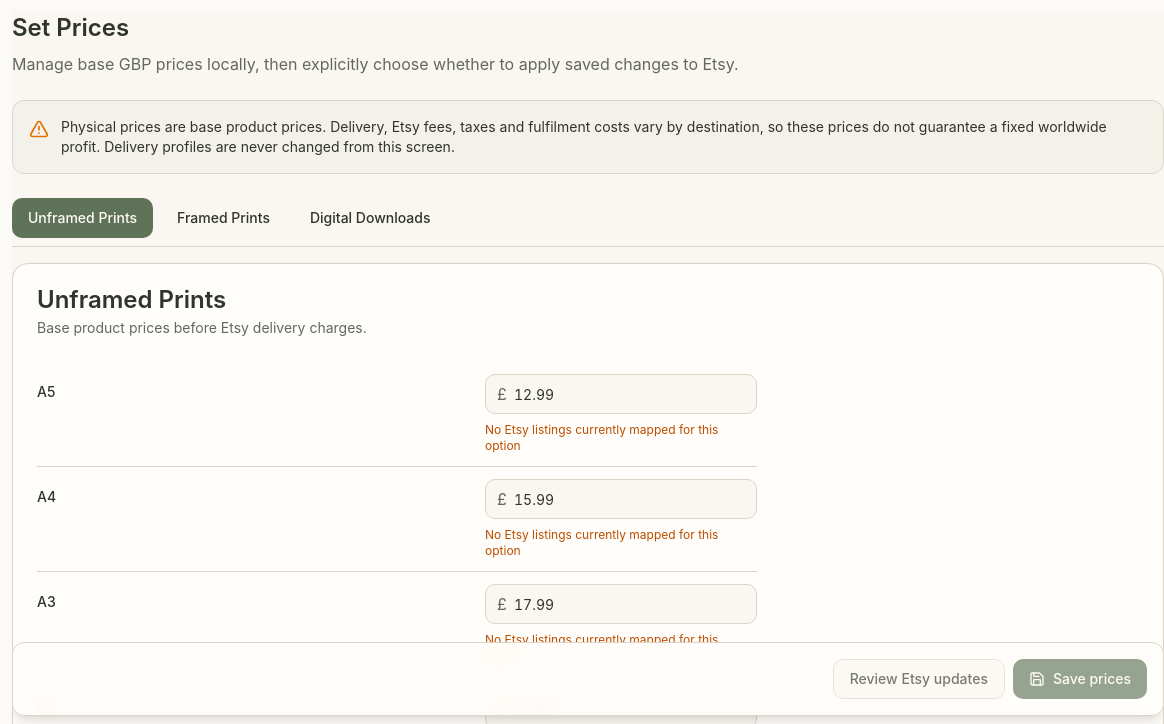
Set Prices screen › retains entered values and displays the server error when local saving fails
This screenshot has width=1164, height=724.
Click the tab "Digital Downloads".
click(370, 218)  # box x1=294 y1=198 x2=446 y2=238
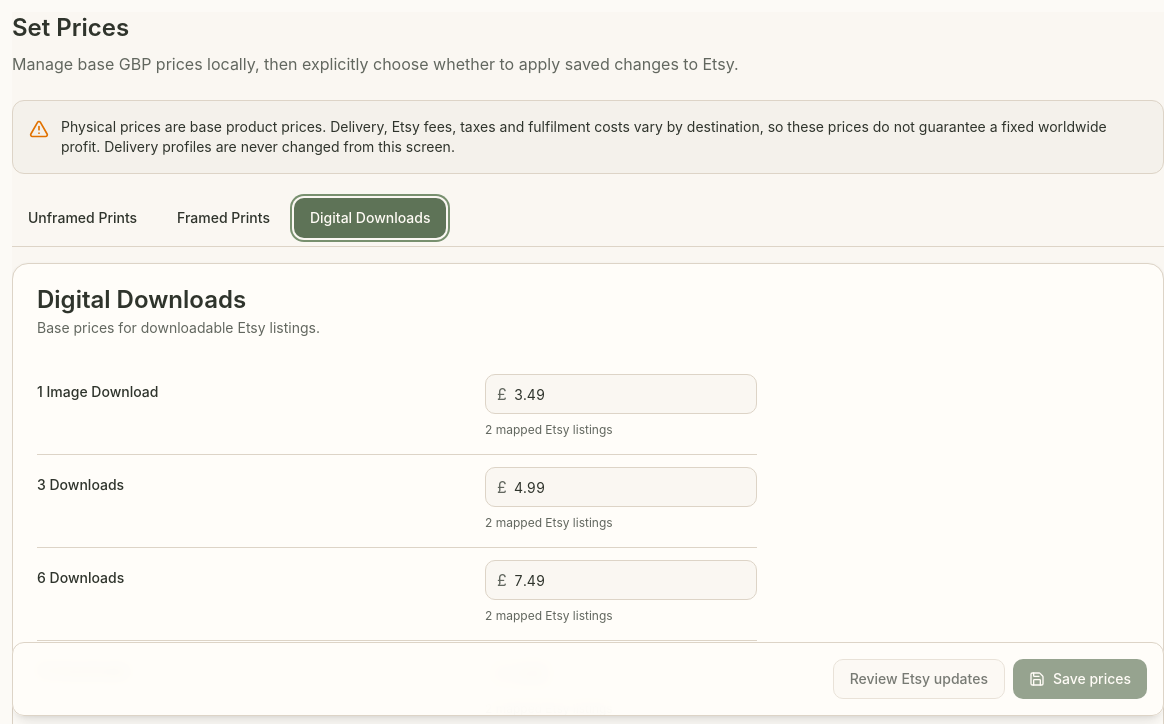
Replace the text in the field labelled "3 Downloads" with "5.25" at (621, 487), box x1=485 y1=467 x2=757 y2=507
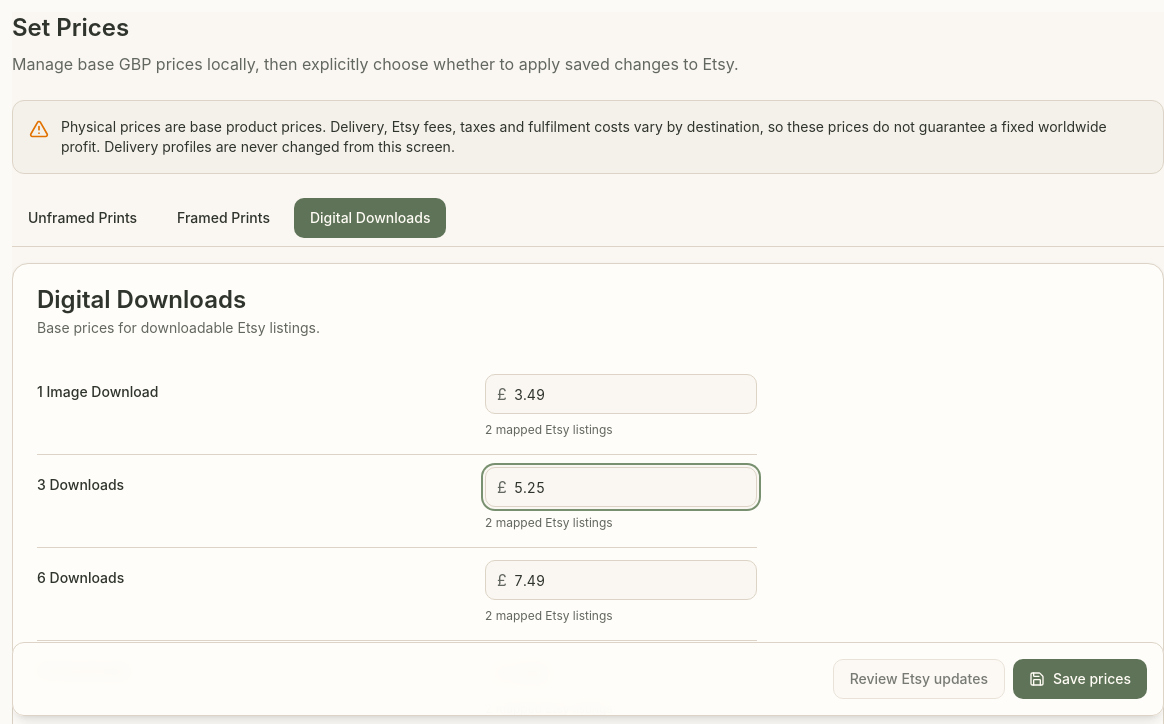
Click the button "Save prices".
click(1080, 679)  # box x1=1013 y1=659 x2=1147 y2=699
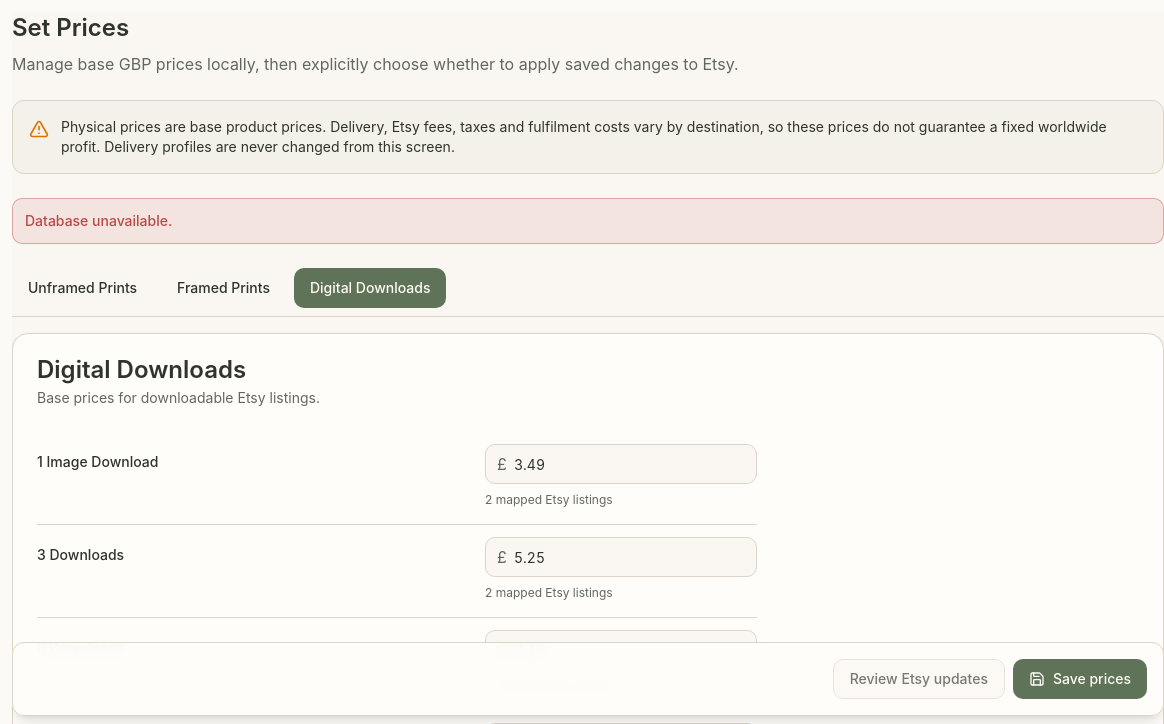
expect the message reads "Database unavailable.": met, box x1=25 y1=212 x2=172 y2=229
